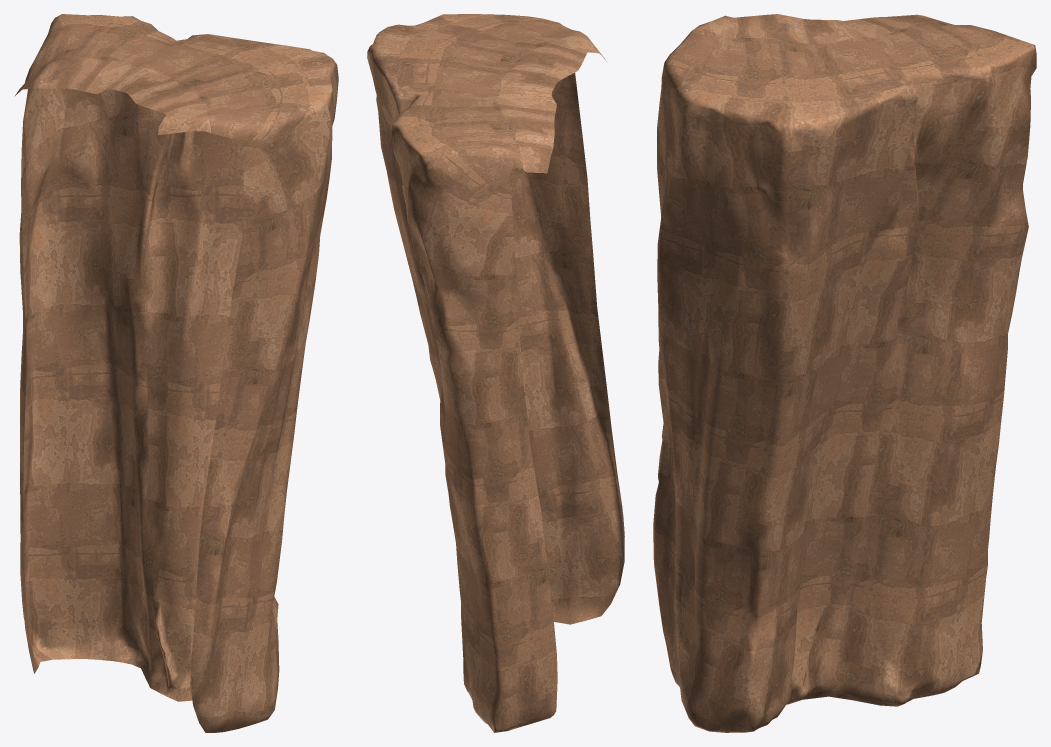
File: Ob_RockCliff05.fbx
3 views of the same model, side by side, from view 1: azimuth 30°, elevation 25°; view 2: azimuth 150°, elevation 25°; view 3: azimuth 270°, elevation 25° (orthographic). The views are drawn at different scales.
Parts seen in each view (by area): view 1: Ob_RockCliff05; view 2: Ob_RockCliff05; view 3: Ob_RockCliff05.
Boxes of the visible parts, box(x1,y1,x2,y2) form: Ob_RockCliff05: box(14, 14, 338, 732); Ob_RockCliff05: box(367, 14, 624, 732); Ob_RockCliff05: box(653, 14, 1036, 732).
Size of the model in its own units: 26034 by 61792 by 31889.
